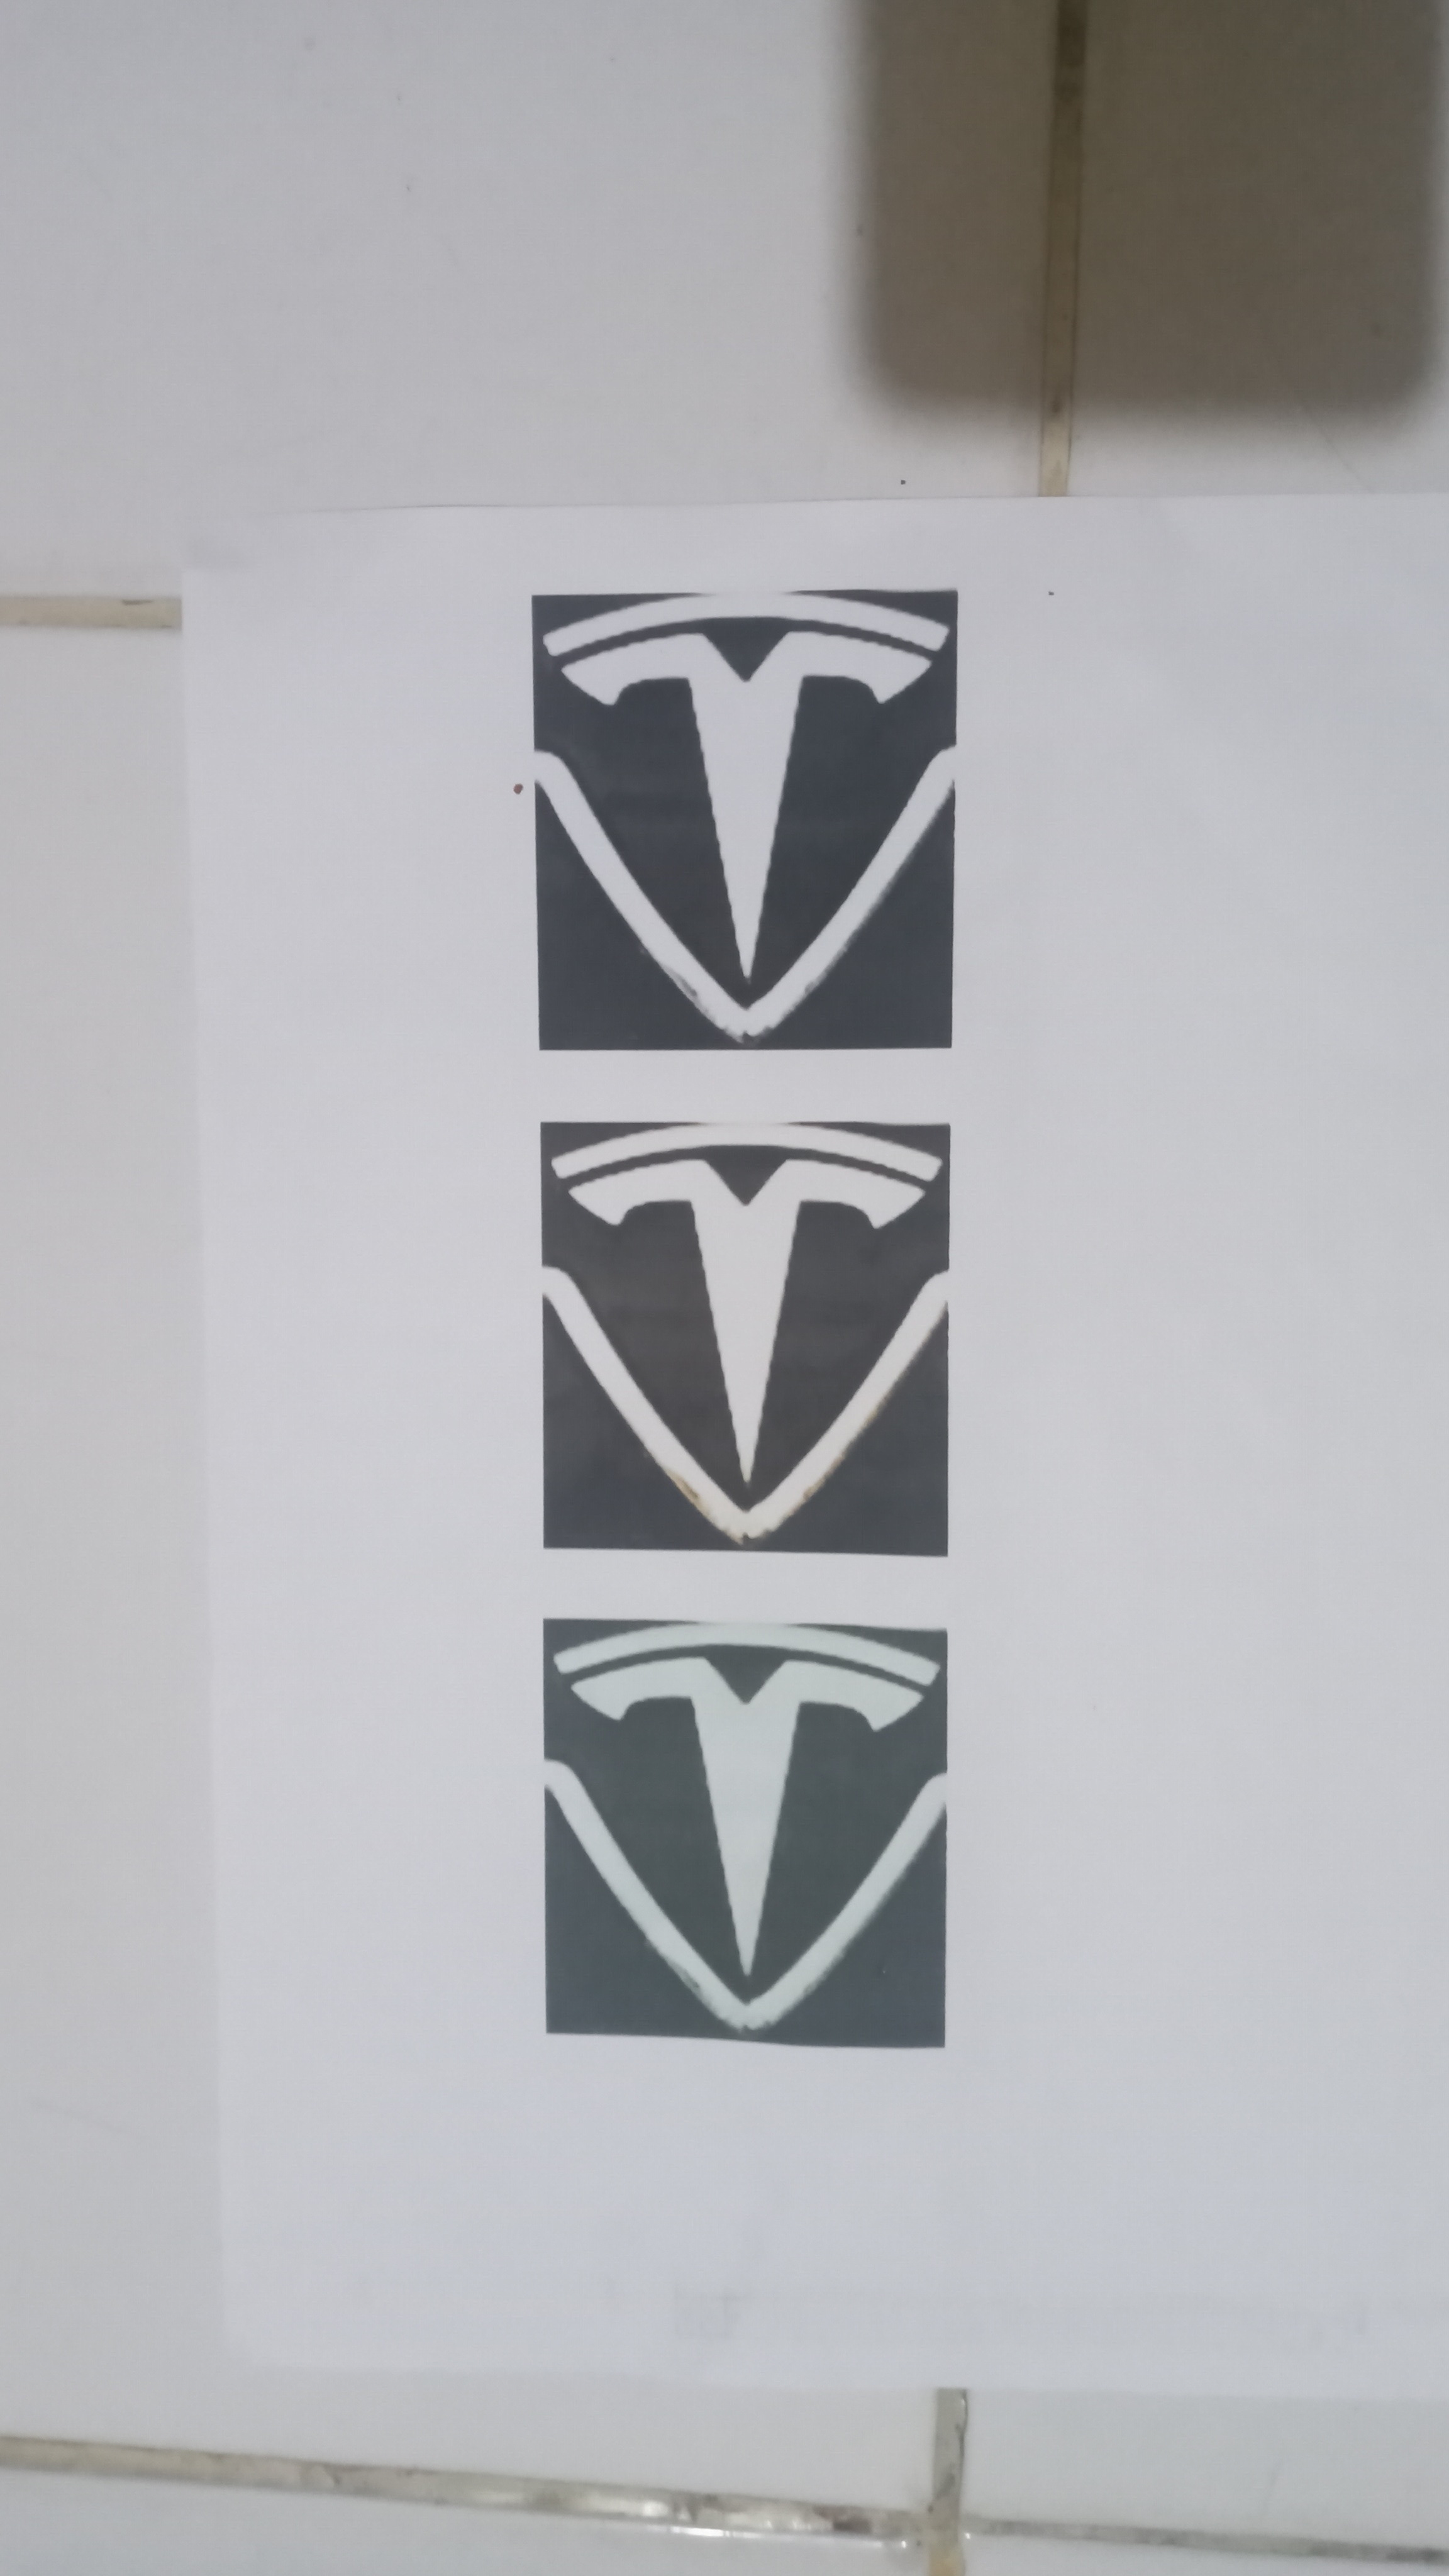Tesla: (520, 586, 964, 1040), (536, 1606, 957, 2049), (531, 1118, 947, 1550)
